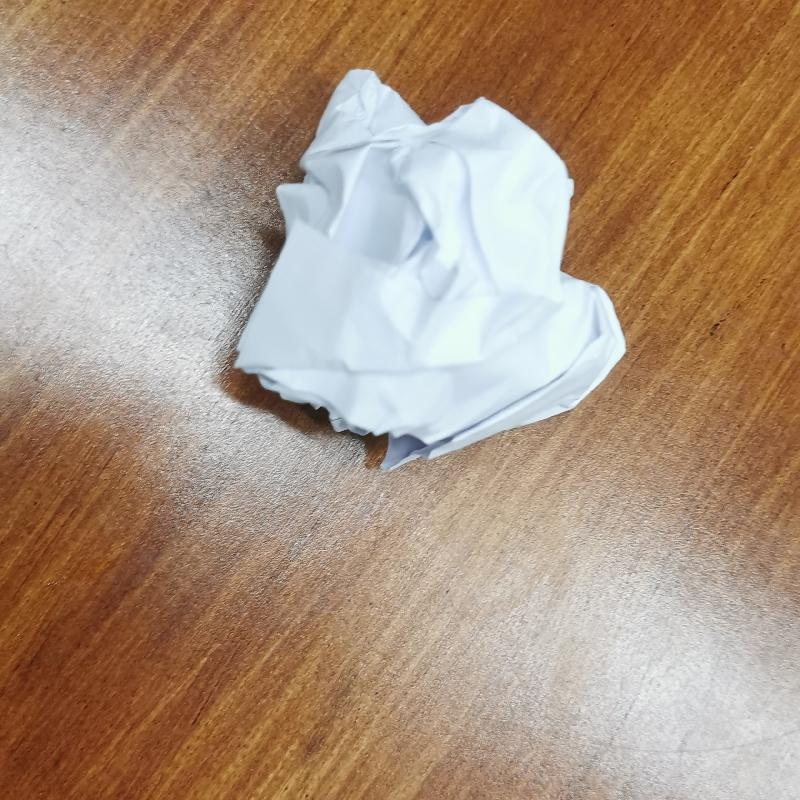spitball: (222, 62, 632, 479)
